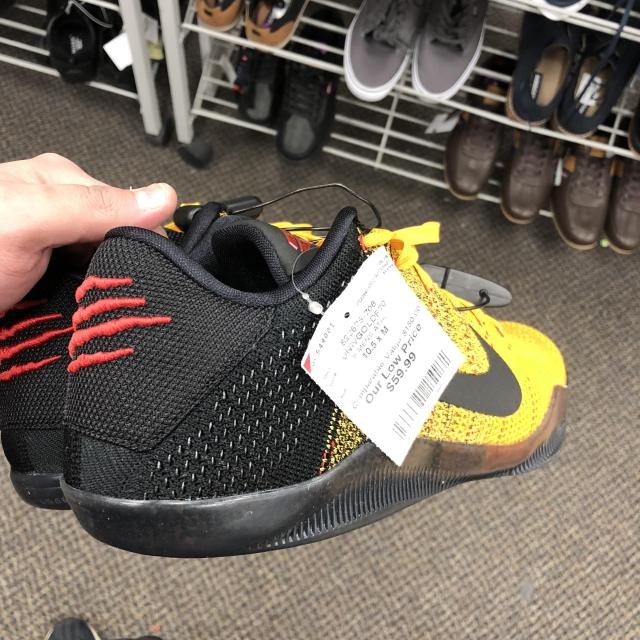shoes: (59, 179, 588, 583)
